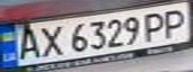2: (103, 16, 127, 48)
3: (87, 18, 109, 52)
6: (66, 19, 90, 53)
9: (121, 12, 145, 45)
A: (9, 26, 45, 61)
P: (157, 6, 193, 39), (139, 9, 172, 42)
X: (33, 21, 66, 59)
